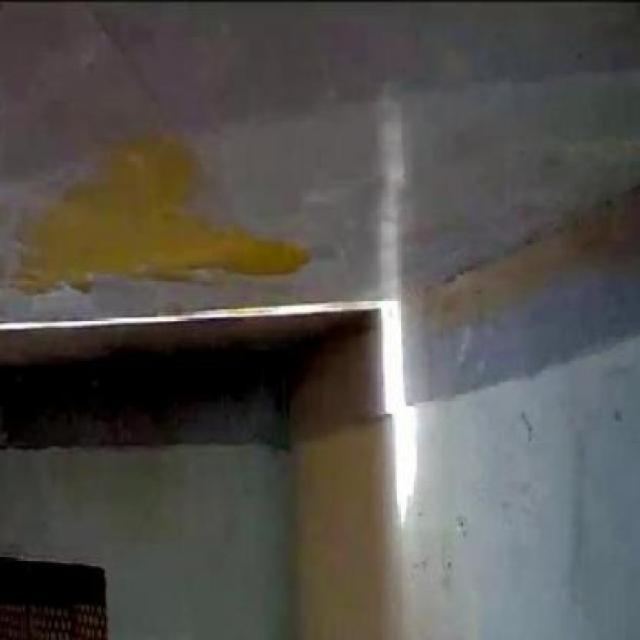spillage: (14, 135, 308, 292)
